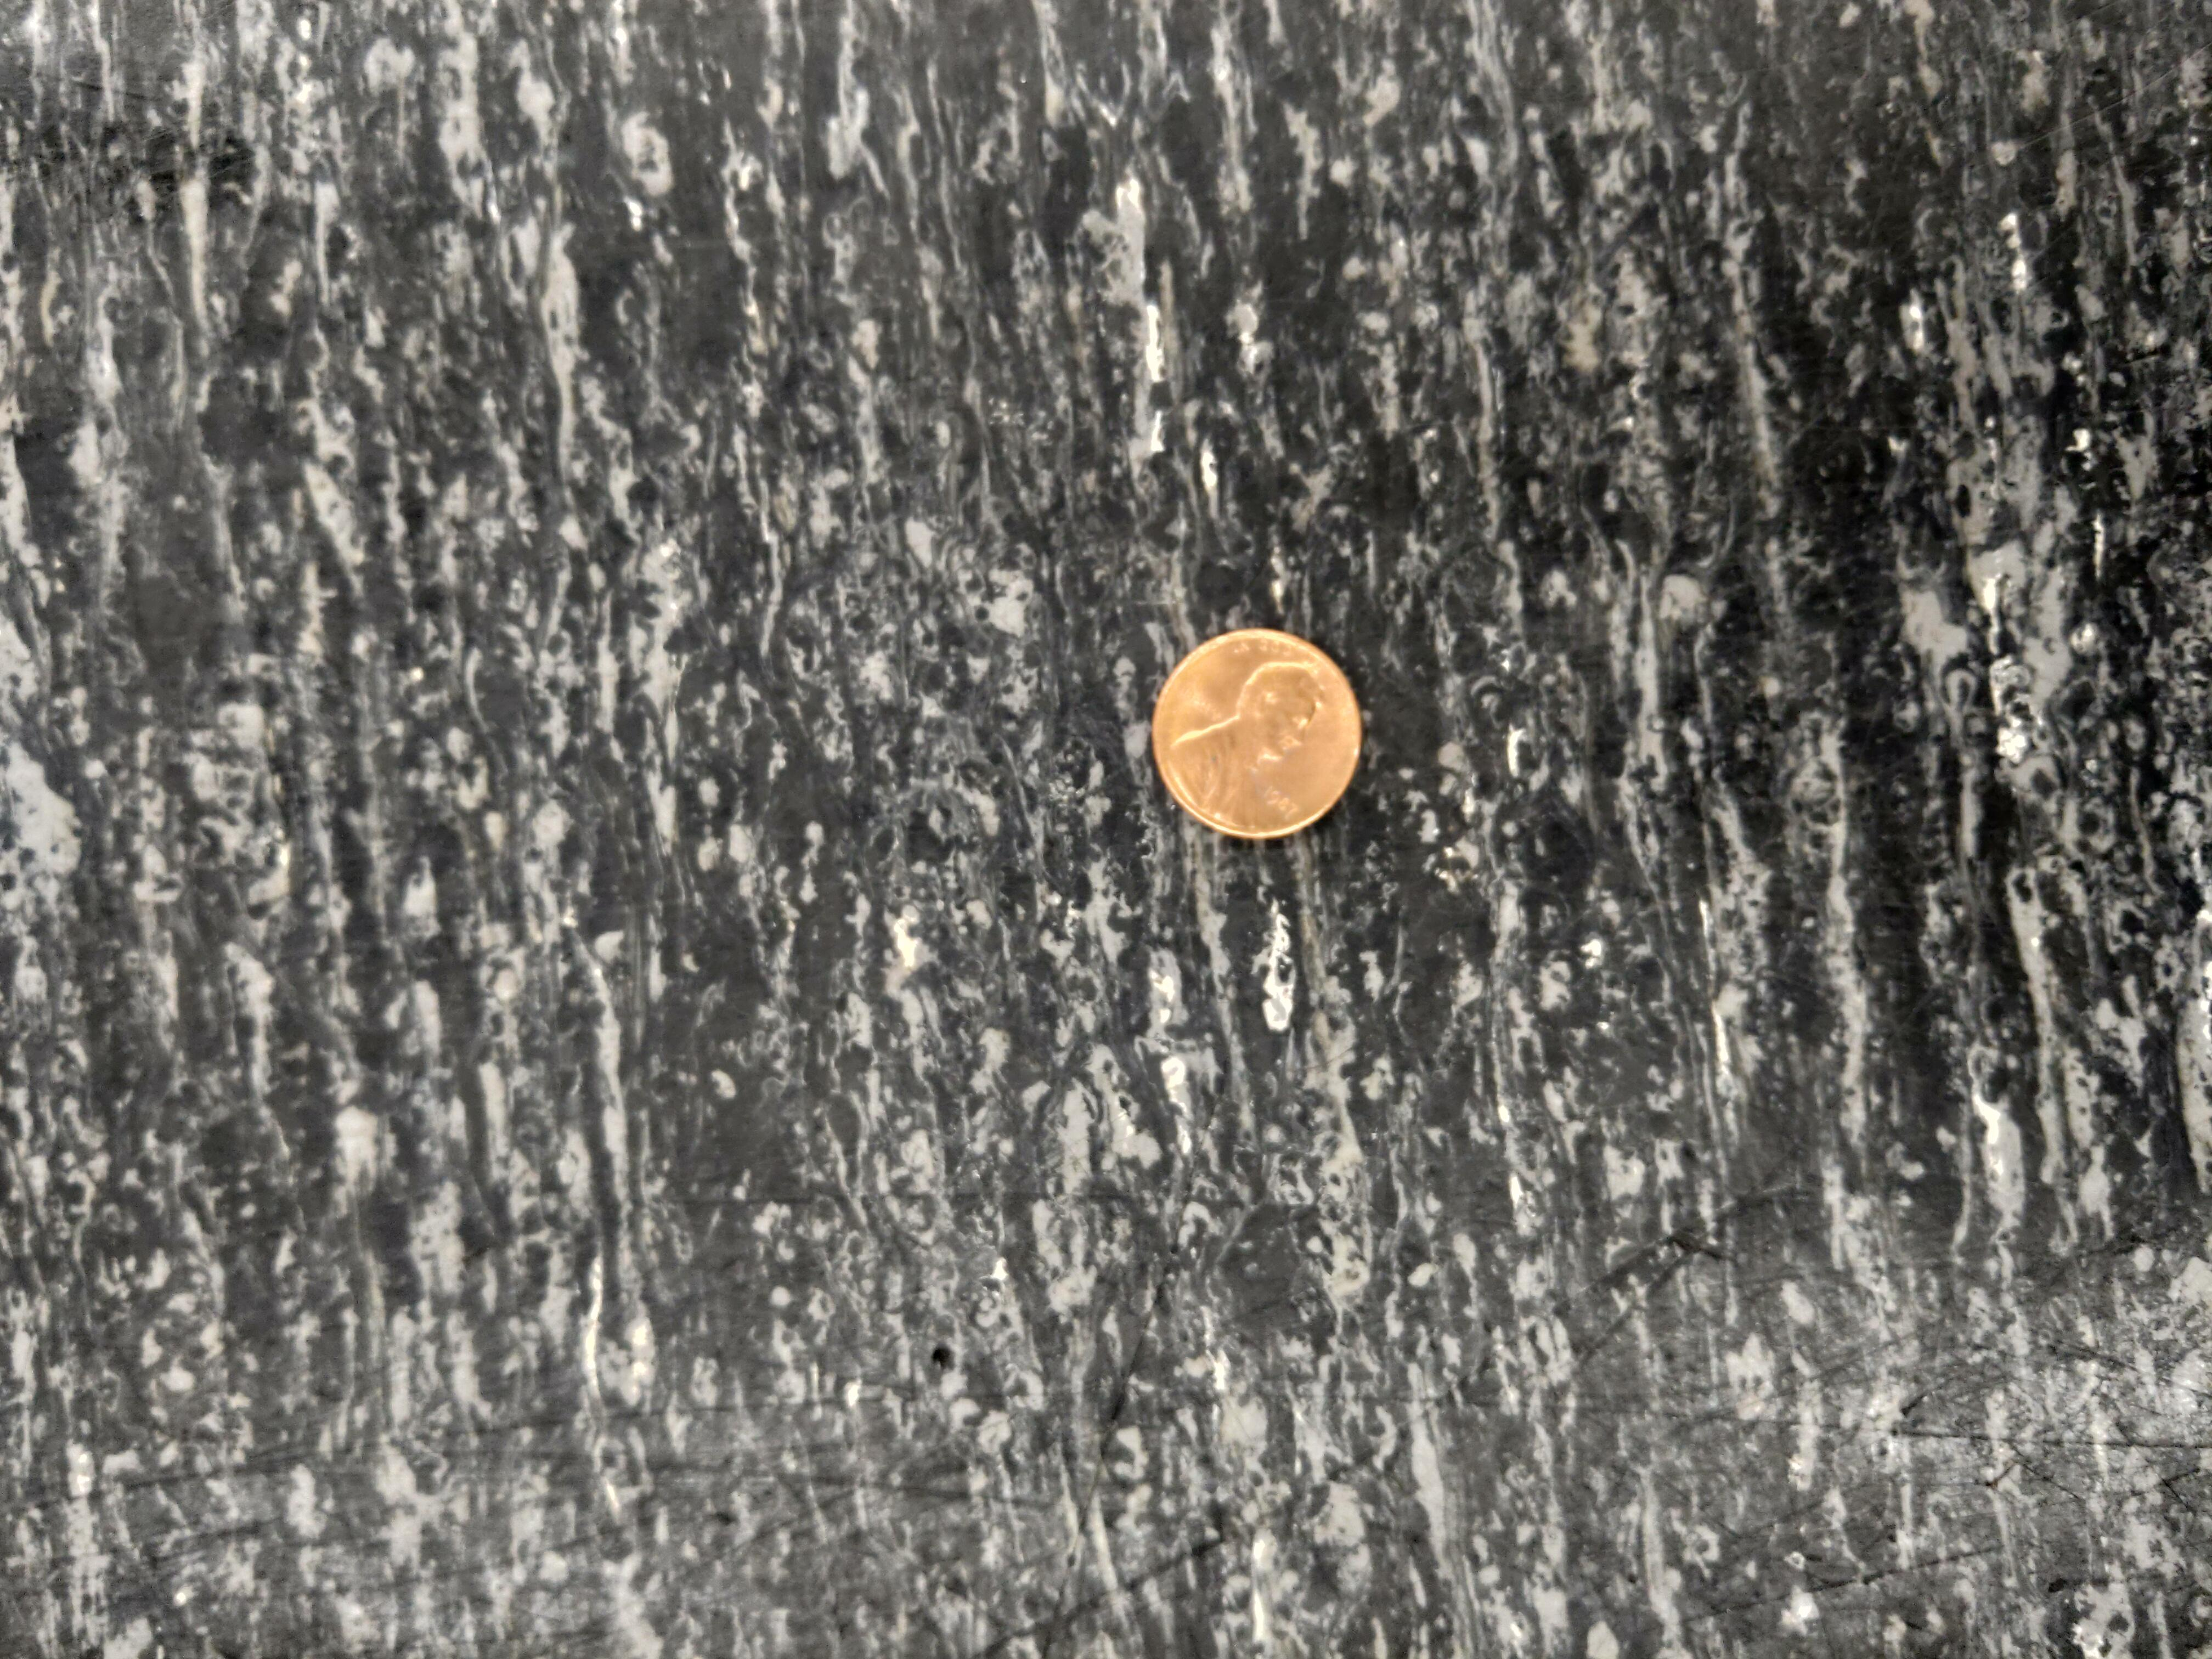Penny: (1148, 626, 1366, 838)
